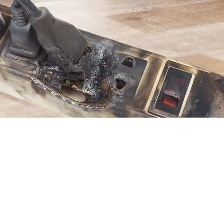three_eye_plug: (0, 1, 224, 121)
